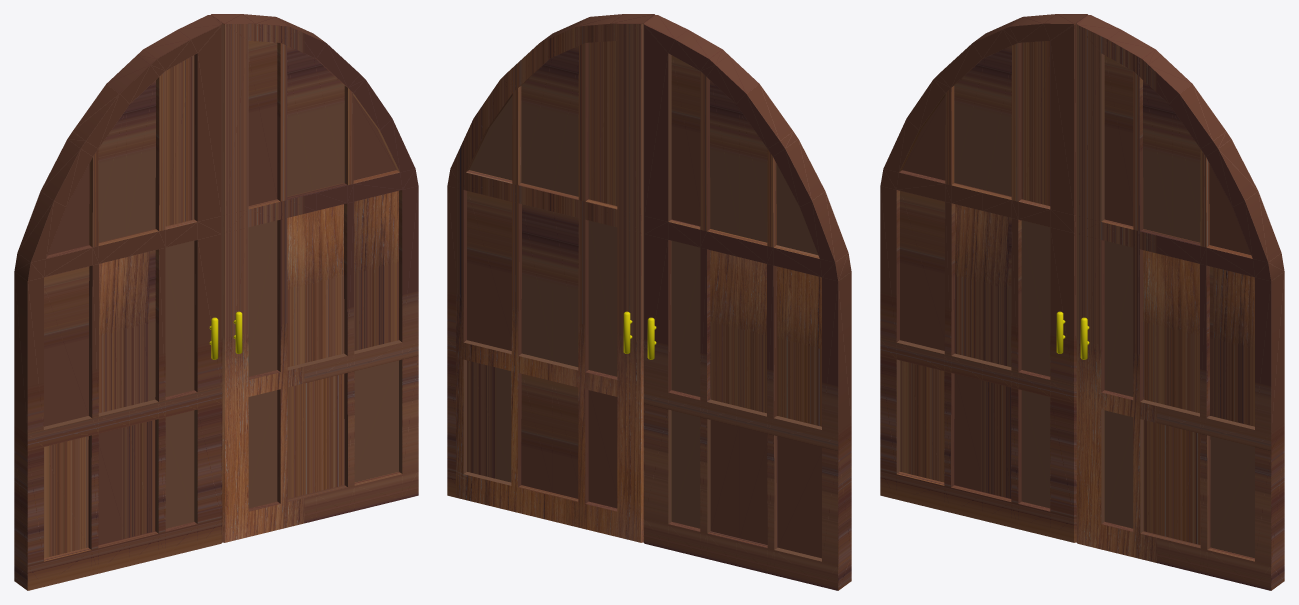
File: purifiedDoor.glb
3 views of the same model, side by side, from view 1: azimuth 30°, elevation 25°; view 2: azimuth 150°, elevation 25°; view 3: azimuth 330°, elevation 25° (orthographic).
Visible parts, largest first — view 1: ChurchDoor.2, ChurchDoor1, ChurchDoorHandles; view 2: ChurchDoor.2, ChurchDoor1, ChurchDoorHandles; view 3: ChurchDoor1, ChurchDoor.2, ChurchDoorHandles.
Boxes of the visible parts, bbox=[...] form: ChurchDoor.2: bbox=[14, 15, 222, 590]; ChurchDoor1: bbox=[211, 14, 418, 542]; ChurchDoorHandles: bbox=[209, 311, 242, 359]; ChurchDoor.2: bbox=[643, 15, 851, 590]; ChurchDoor1: bbox=[447, 14, 654, 542]; ChurchDoorHandles: bbox=[623, 311, 656, 359]; ChurchDoor1: bbox=[1076, 15, 1284, 590]; ChurchDoor.2: bbox=[880, 14, 1087, 542]; ChurchDoorHandles: bbox=[1056, 311, 1089, 359].
Size of the model in its own units: 33.7 by 42.8 by 3.61.
2 materials, 1 textured.
